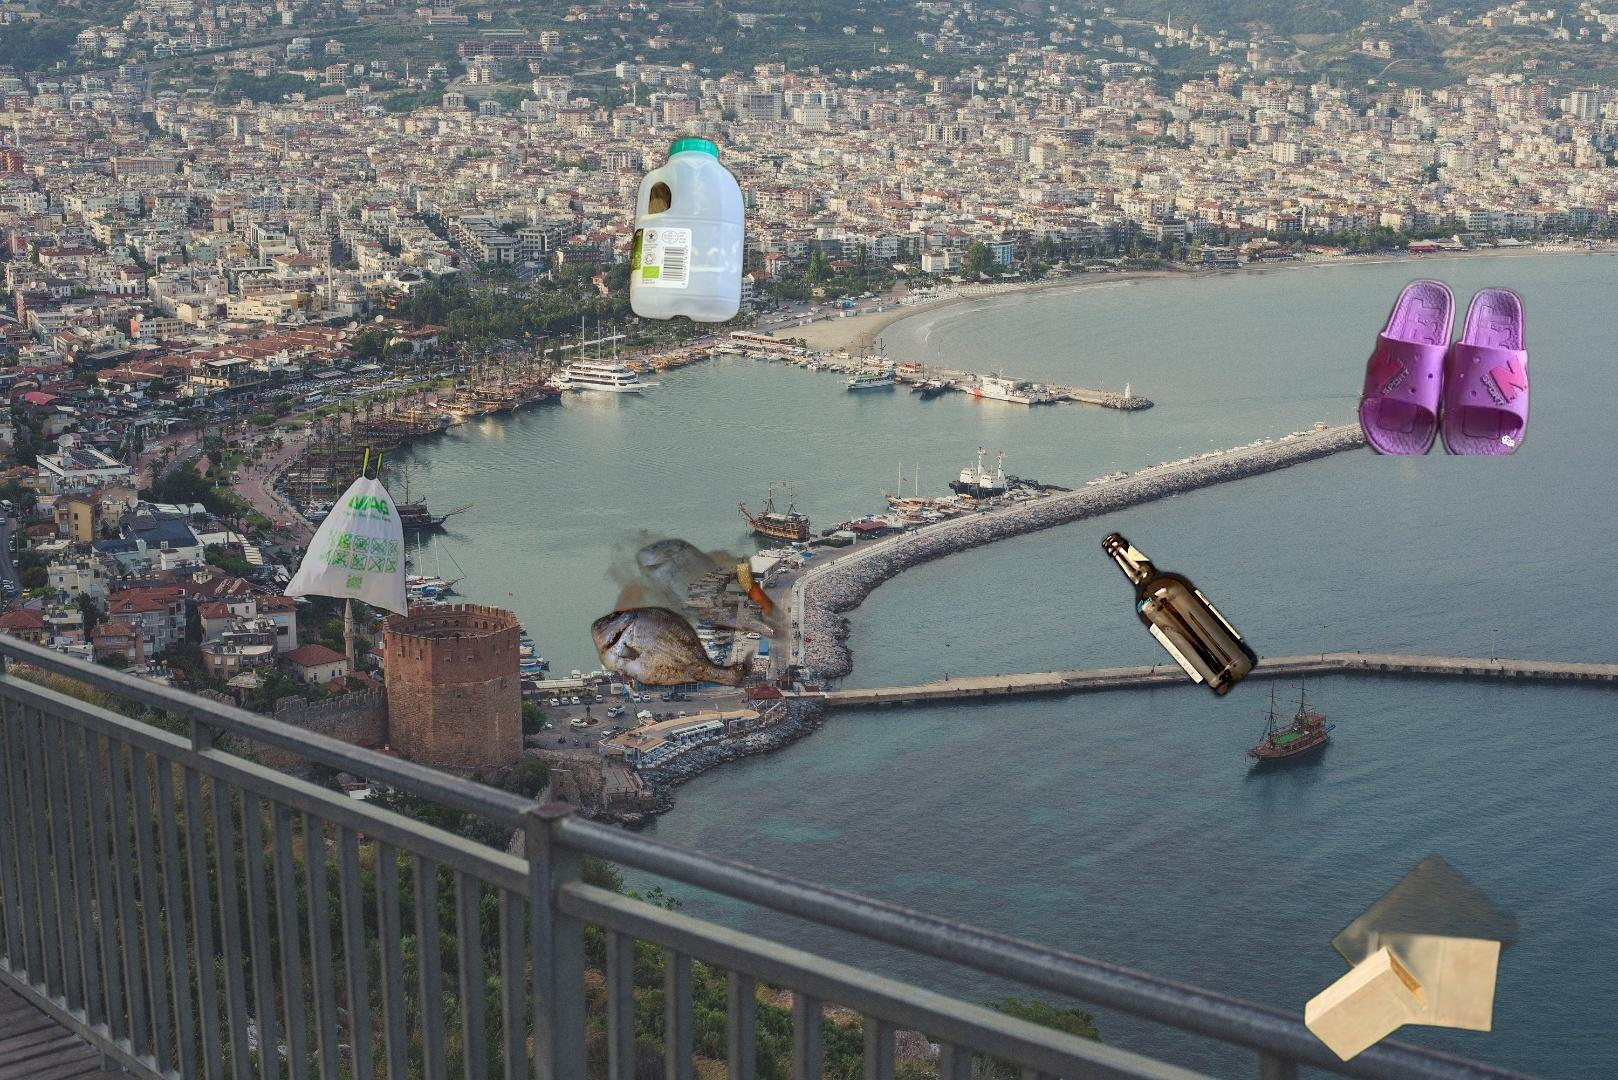biological: (581, 528, 867, 695)
glass: (1098, 526, 1263, 704)
paper-bag: (1283, 830, 1526, 1066)
plastic-bag: (280, 445, 412, 621)
plastic-bottles: (624, 130, 751, 329)
shoes: (1357, 276, 1543, 454)
